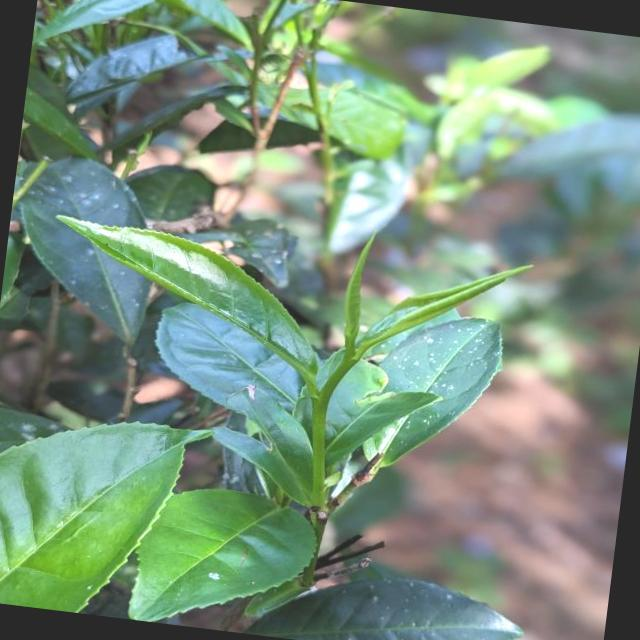Stem: (313, 399, 326, 418)
